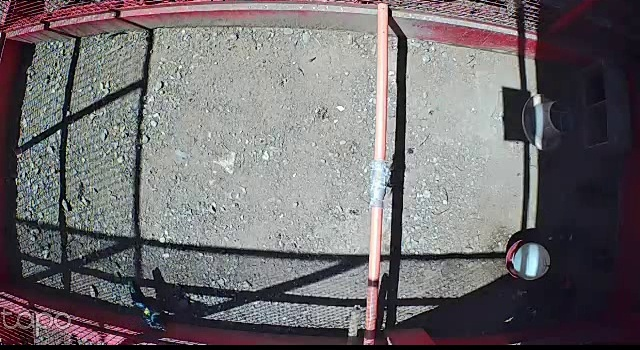Chicken: (126, 282, 171, 334)
Drinker: (505, 239, 553, 282)
Feeder: (522, 90, 574, 153)
Saddle_Color_Yellow: (144, 307, 150, 318)
